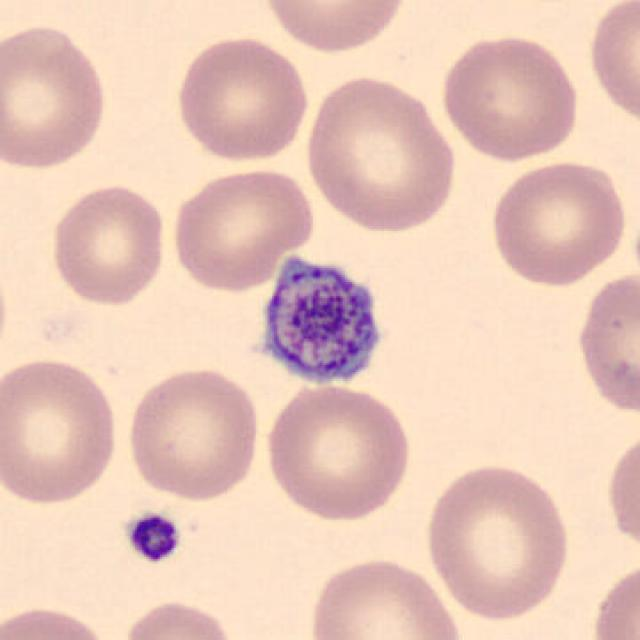Platelets: (249, 245, 396, 391), (121, 510, 183, 564)
RBC: (300, 71, 460, 236), (420, 459, 574, 624), (261, 379, 416, 524), (123, 363, 265, 503), (436, 30, 583, 164), (167, 164, 318, 293), (0, 354, 123, 510), (486, 157, 630, 289), (171, 32, 313, 164), (0, 19, 112, 173), (46, 180, 169, 308), (304, 553, 467, 640), (570, 266, 640, 419), (258, 0, 412, 55), (585, 0, 638, 129), (602, 423, 640, 564), (118, 596, 238, 640), (0, 601, 116, 640), (587, 555, 638, 640), (0, 252, 11, 374)
